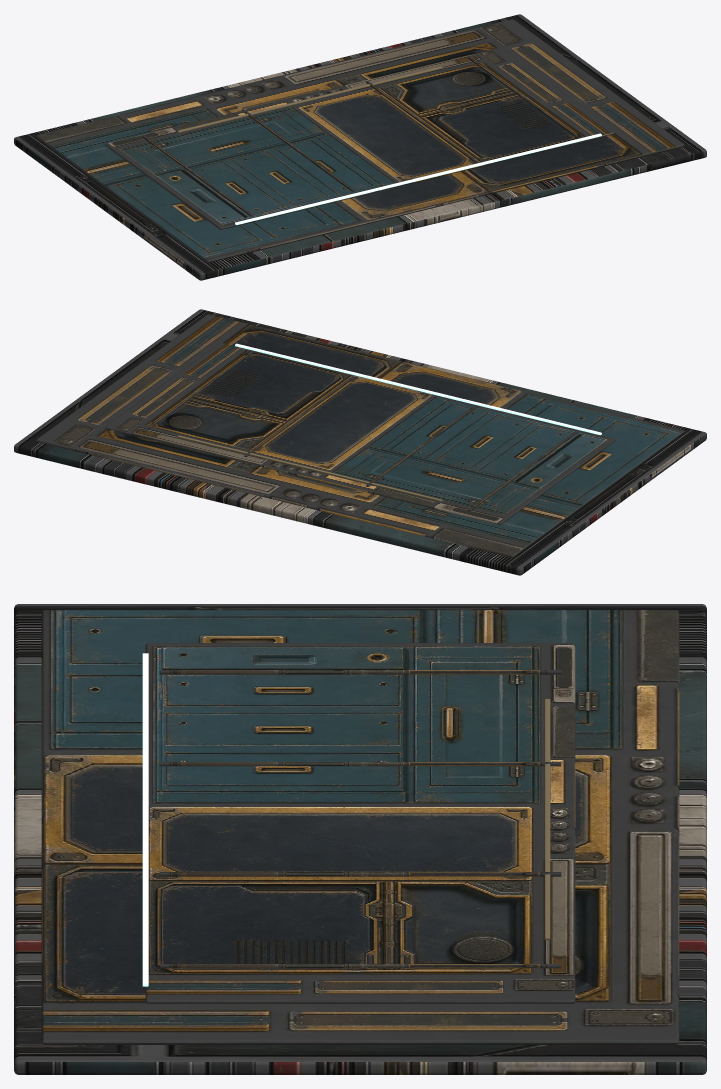
Rendered from hp_room_residential_rug_panel.glb.
The picture shows the model from 3 angles, top to bottom: view 1: azimuth 30°, elevation 25°; view 2: azimuth 150°, elevation 25°; view 3: azimuth 270°, elevation 25°; orthographic projection. The views are drawn at different scales.
Visible parts, largest first — view 1: inner_reflective_plate, dark_recessed_outer_border, single_low_floor_panel, front_cyan_floor_line, rear_warm_floor_line; view 2: inner_reflective_plate, dark_recessed_outer_border, single_low_floor_panel, front_cyan_floor_line, rear_warm_floor_line; view 3: inner_reflective_plate, dark_recessed_outer_border, single_low_floor_panel, front_cyan_floor_line, rear_warm_floor_line.
Part boxes in pixels (x1,y1,x2,y2): inner_reflective_plate: (105, 47, 615, 229); dark_recessed_outer_border: (36, 19, 684, 262); single_low_floor_panel: (14, 14, 706, 280); front_cyan_floor_line: (235, 133, 601, 225); rear_warm_floor_line: (177, 66, 442, 132); inner_reflective_plate: (105, 342, 615, 524); dark_recessed_outer_border: (36, 314, 684, 557); single_low_floor_panel: (14, 309, 706, 575); front_cyan_floor_line: (235, 343, 601, 435); rear_warm_floor_line: (177, 435, 442, 501); inner_reflective_plate: (145, 643, 575, 1003); dark_recessed_outer_border: (41, 610, 679, 1044); single_low_floor_panel: (14, 604, 706, 1074); front_cyan_floor_line: (142, 653, 148, 986); rear_warm_floor_line: (544, 699, 550, 940).
Size of the model in its own units: 3.83 by 0.1138 by 2.45.
Materials: 5 (3 with a texture image).
